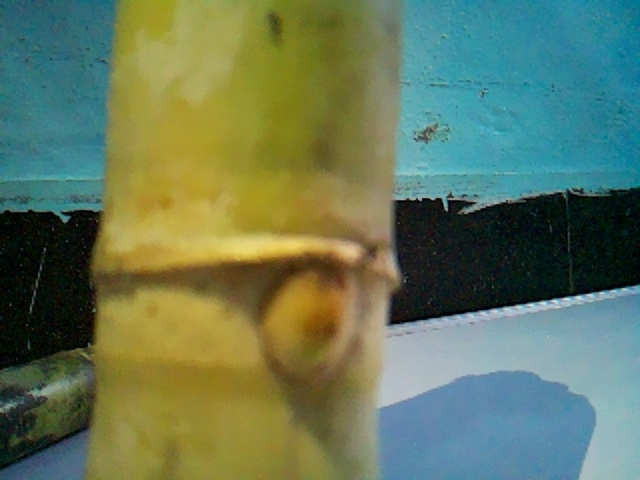Good Sugarcane: (86, 5, 407, 480)
Node: (78, 176, 405, 391)
